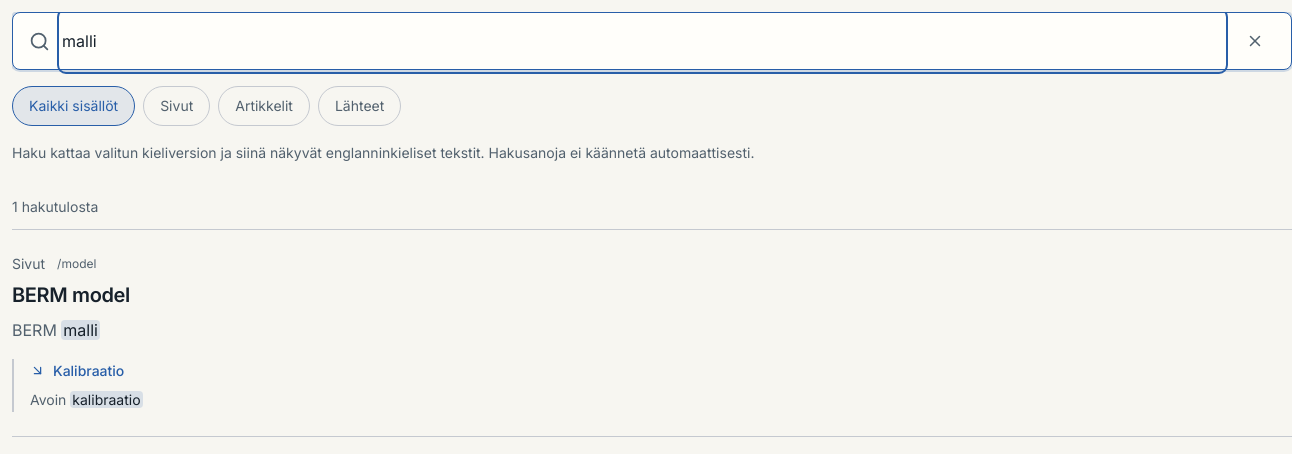
Scenario: site-wide search experience › loads a shared query, renders section links, filters, and preserves URL state
expect the search field holds "malli": met, box 62,13 -> 1223,69
expect the text "malli" is shown: met, box 61,320 -> 100,340
Click the radio button labelled "Lähteet": (360, 106) 318,86 -> 401,126
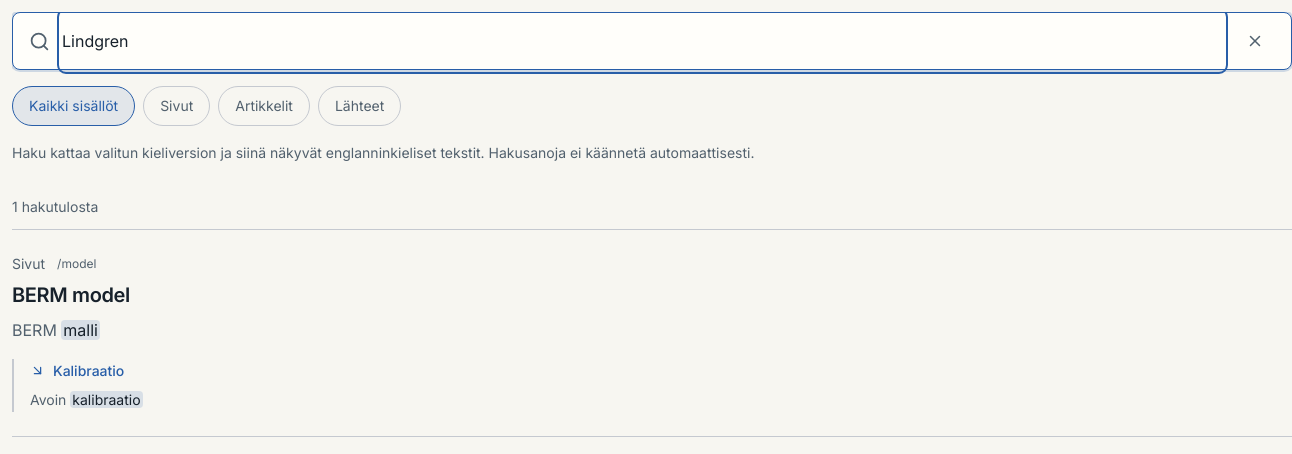
expect the search field holds "Lindgren": met, box 62,13 -> 1223,69
